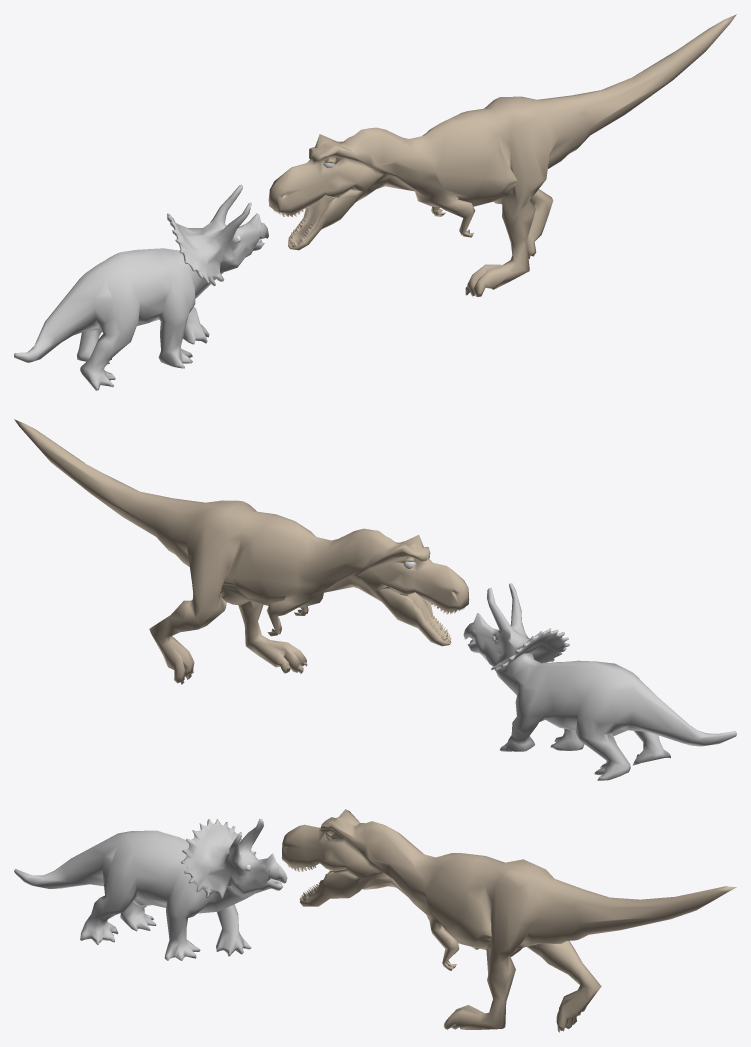
Rendered from MuseumDinosaursExport.fbx.
3 views of the same model, one above another, from view 1: azimuth 30°, elevation 25°; view 2: azimuth 150°, elevation 25°; view 3: azimuth 330°, elevation 25° (orthographic). The views are drawn at different scales.
Visible parts, largest first — view 1: MuseumDinosaursExport.blend; view 2: MuseumDinosaursExport.blend; view 3: MuseumDinosaursExport.blend.
Part boxes in pixels (x1,y1,x2,y2): MuseumDinosaursExport.blend: [14, 14, 736, 390]; MuseumDinosaursExport.blend: [14, 419, 736, 780]; MuseumDinosaursExport.blend: [14, 809, 736, 1032].
Size of the model in its own units: 9181 by 2508 by 1143.
